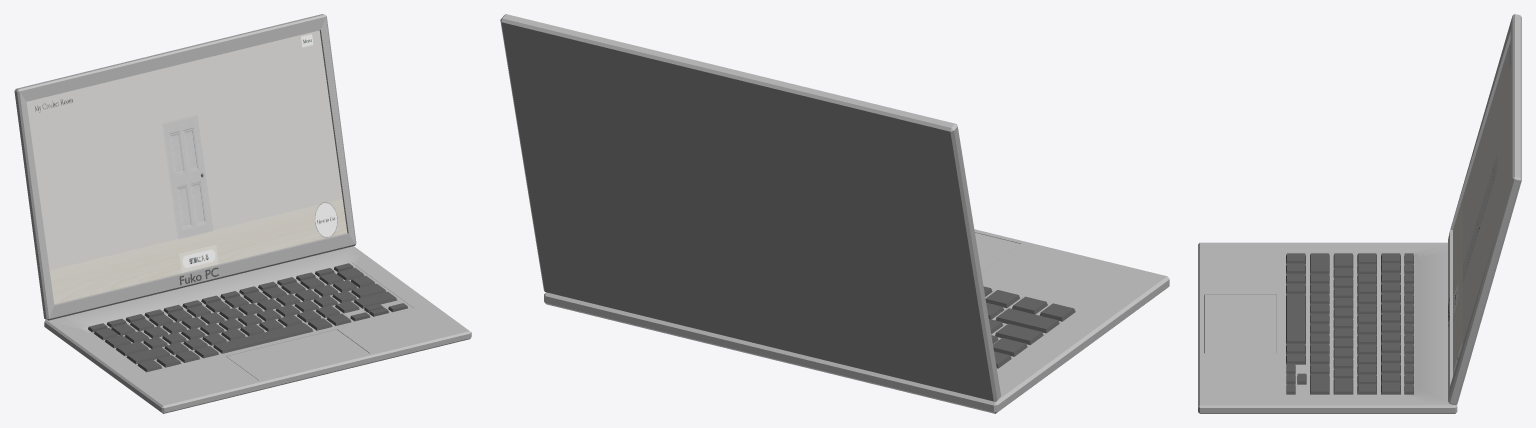
Rendered from room-pc.glb.
3 views of the same model, side by side, from view 1: azimuth 30°, elevation 25°; view 2: azimuth 150°, elevation 25°; view 3: azimuth 270°, elevation 25° (orthographic). The views are drawn at different scales.
Visible parts, largest first — view 1: Cube.001, Cube, Cube.002; view 2: Cube.001, Cube, Cube.002; view 3: Cube, Cube.002, Cube.001.
Part boxes in pixels (x1=…): Cube.001: x1=14, y1=14, x2=356, y2=320; Cube: x1=44, y1=246, x2=471, y2=413; Cube.002: x1=88, y1=263, x2=407, y2=372; Cube.001: x1=500, y1=14, x2=1000, y2=401; Cube: x1=544, y1=229, x2=1169, y2=413; Cube.002: x1=983, y1=286, x2=1075, y2=368; Cube: x1=1198, y1=242, x2=1457, y2=413; Cube.002: x1=1286, y1=253, x2=1413, y2=394; Cube.001: x1=1448, y1=14, x2=1521, y2=404.
Size of the model in its own units: 2.4 by 1.63 by 2.
3 materials, 1 textured.
